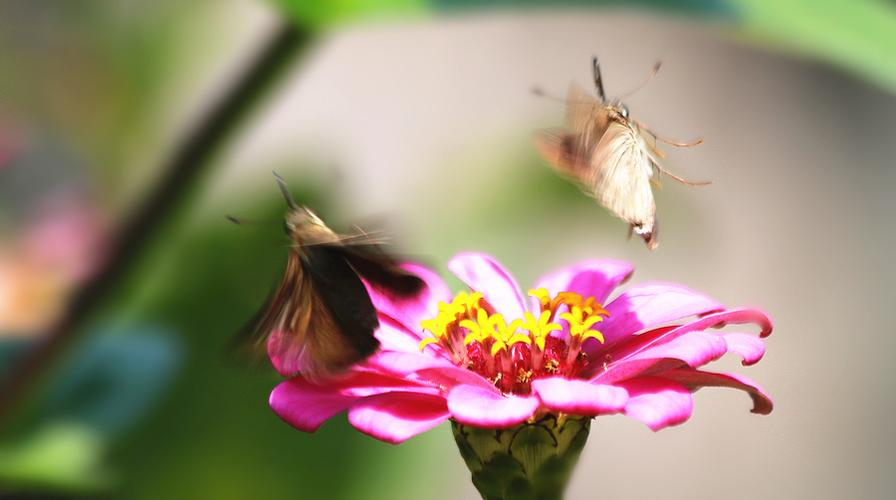Hesperiidae: (505, 48, 705, 267), (229, 159, 427, 378)
